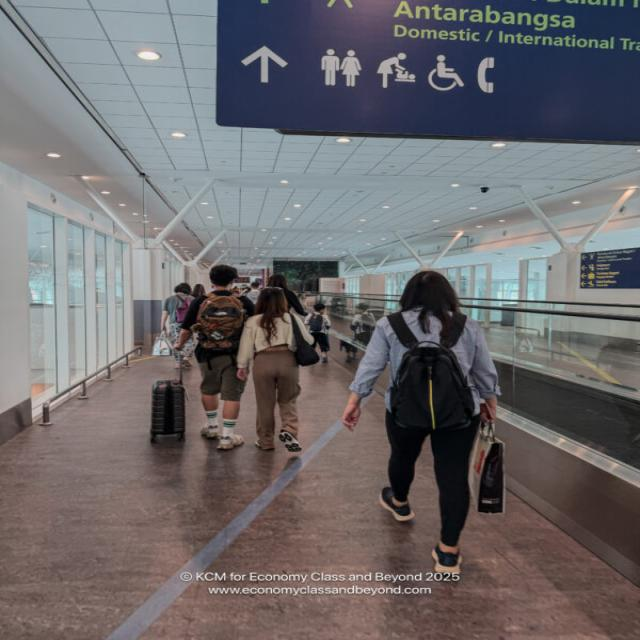Person: (335, 263, 516, 592), (235, 287, 326, 459), (170, 261, 250, 448)
